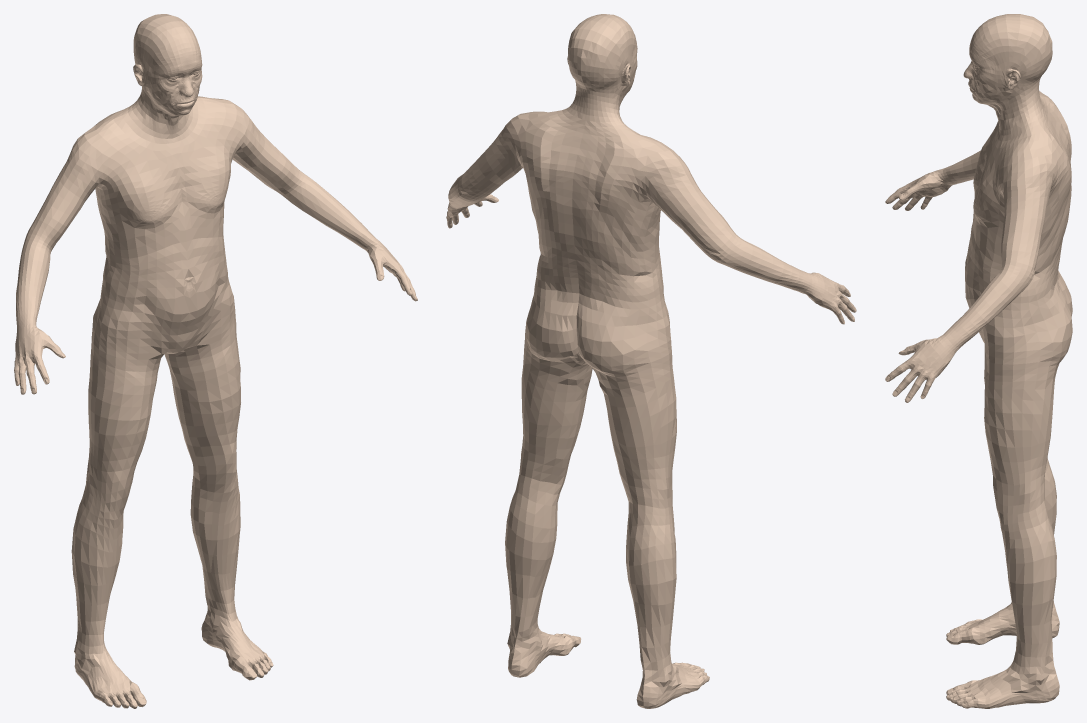
Rendered from male-older-heavy-medium.glb.
3 renders of one model, left to right at view 1: azimuth 30°, elevation 25°; view 2: azimuth 150°, elevation 25°; view 3: azimuth 270°, elevation 25°, orthographic.
Visible parts, largest first — view 1: world; view 2: world; view 3: world.
Boxes of the visible parts, box(x1,y1,x2,y2) form: world: box(14, 14, 417, 708); world: box(446, 14, 856, 708); world: box(885, 14, 1072, 708).
Bounding box in the file's own units: 1.22 × 1.93 × 0.5025.
